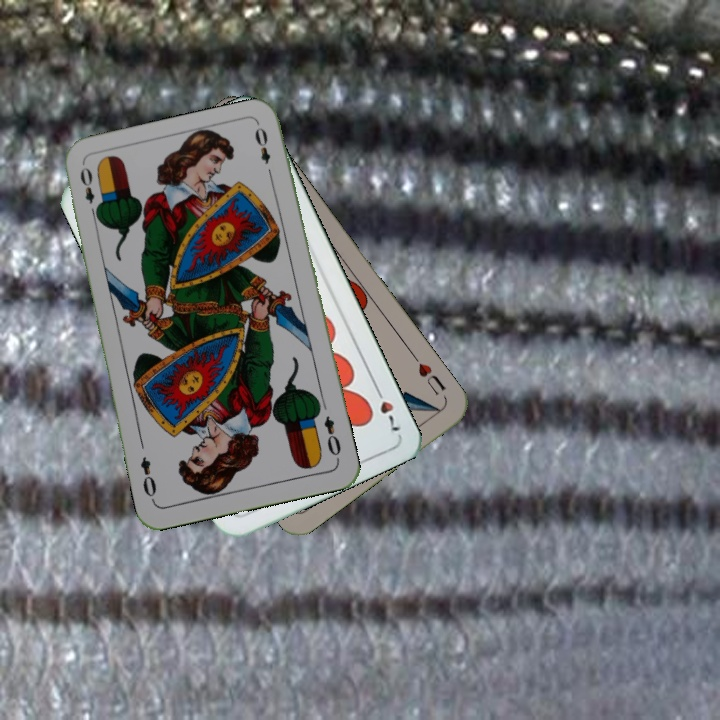EO: (76, 163, 102, 221), (320, 412, 344, 463)
H7: (369, 381, 403, 434)
HU: (408, 350, 449, 399)
